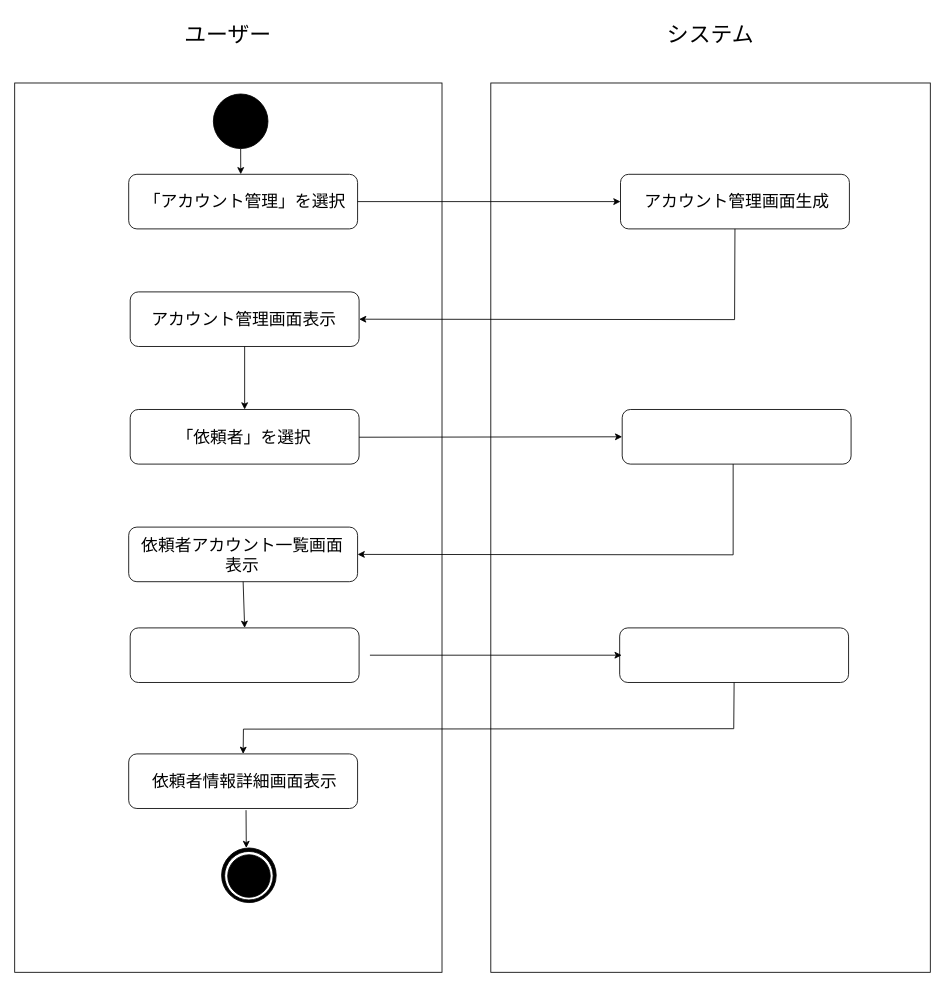
This 945x987 diagram has some shape labels left out. Here are the shapes that lost their labels. From the top down, the centre of each, then its label:
At (736,436): "依頼者アカウント 一覧画面生成".
At (244,654): "「詳細」を選択".
At (734,654): "依頼者情報詳細画面生成".
